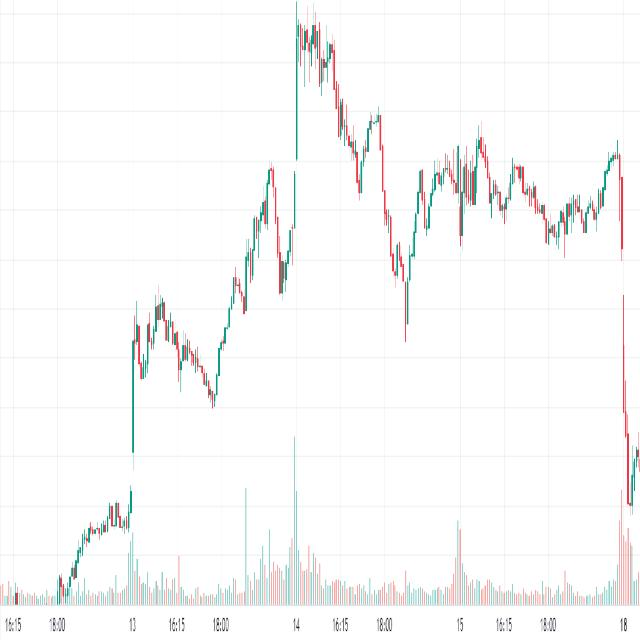Double-Bottom: (384, 206, 420, 335)
Falling-Wedge: (127, 253, 221, 415)
